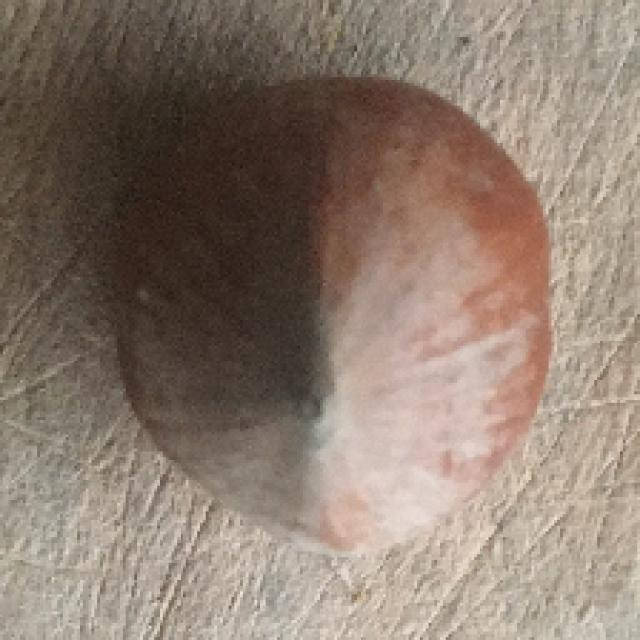qualityHazelnut: (117, 73, 556, 566)
